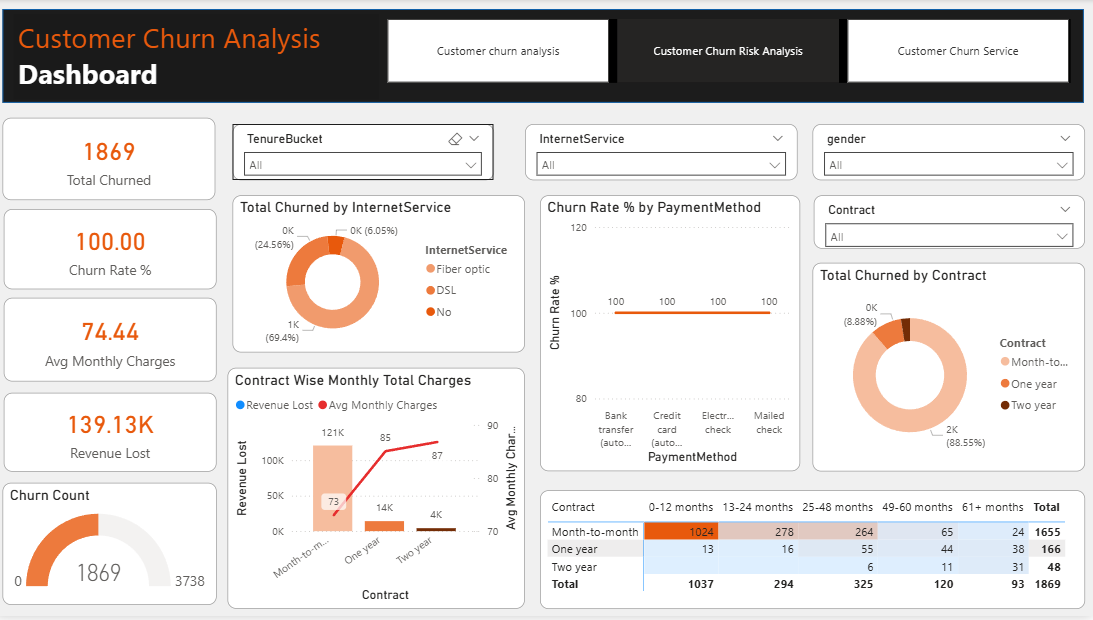

The dashboard page shown, as its layout file describes it:
{"tool":"powerbi","page":{"name":"Customer Churn Risk Analysis","canvas":[1280,720],"ordinal":1},"visuals":[{"type":"shape","box":[8.7,11.7,1259.9,109.2],"z":0},{"type":"pageNavigator","box":[456.9,23.3,795.9,74.1],"z":1000},{"type":"textbox","box":[21.8,17.5,425.3,99],"z":2000},{"type":"card","fields":{"Values":["customers_cleaned_final.Total Churned"]},"box":[8.2,138.6,248.4,96.1],"z":3000},{"type":"card","fields":{"Values":["customers_cleaned_final.Avg Monthly Charges"]},"box":[9.6,348.5,248.4,97.4],"z":4000},{"type":"card","fields":{"Values":["customers_cleaned_final.Revenue Lost"]},"box":[9.6,458.3,248.4,91.9],"z":5000},{"type":"card","fields":{"Values":["customers_cleaned_final.Churn Rate %"]},"box":[9.6,244.3,248.4,93.3],"z":6000},{"type":"gauge","title":"Churn Count","fields":{"Y":["customers_cleaned_final.Total Churned"]},"box":[8.2,564,249.7,142.7],"z":7000},{"type":"donutChart","fields":{"Category":["customers_cleaned_final.InternetService"],"Y":["customers_cleaned_final.Total Churned"]},"box":[276.7,228.7,340.8,183.5],"z":8000},{"type":"donutChart","fields":{"Category":["customers_cleaned_final.Contract"],"Y":["customers_cleaned_final.Total Churned"]},"box":[952.6,307.3,317.5,243.2],"z":9000},{"type":"lineClusteredColumnComboChart","title":"Contract Wise Monthly Total Charges","fields":{"Category":["customers_cleaned_final.Contract"],"Y":["customers_cleaned_final.Revenue Lost"],"Y2":["customers_cleaned_final.Avg Monthly Charges"]},"box":[270.9,429.7,346.7,281.1],"z":10000},{"type":"lineChart","fields":{"Category":["customers_cleaned_final.PaymentMethod"],"Y":["customers_cleaned_final.Churn Rate %"]},"box":[635.1,228.7,303,321.9],"z":11000},{"type":"pivotTable","fields":{"Columns":["customers_cleaned_final.TenureBucket"],"Values":["customers_cleaned_final.Total Churned"],"Rows":["customers_cleaned_final.Contract"]},"box":[635.1,572.4,635.1,138.4],"z":12000},{"type":"slicer","fields":{"Values":["customers_cleaned_final.TenureBucket"]},"box":[276.7,145.7,304.4,65.5],"z":13000},{"type":"slicer","fields":{"Values":["customers_cleaned_final.InternetService"]},"box":[617.6,145.7,317.5,65.5],"z":14000},{"type":"slicer","fields":{"Values":["customers_cleaned_final.gender"]},"box":[952.6,145.7,317.5,65.5],"z":15000},{"type":"slicer","fields":{"Values":["customers_cleaned_final.Contract"]},"box":[954,228.7,316.1,62.6],"z":16000}]}

Visuals, with their boxes in screenshot pixels (x1, y1, x2, y2), scaled from the page's 1280x720 canvas onto the 1093x620 screenshot:
shape: crop(7, 10, 1083, 104)
pageNavigator: crop(390, 20, 1070, 84)
textbox: crop(19, 15, 382, 100)
card - customers_cleaned_final.Total Churned: crop(7, 119, 219, 202)
card - customers_cleaned_final.Avg Monthly Charges: crop(8, 300, 220, 384)
card - customers_cleaned_final.Revenue Lost: crop(8, 395, 220, 474)
card - customers_cleaned_final.Churn Rate %: crop(8, 210, 220, 291)
"Churn Count" gauge: crop(7, 486, 220, 609)
donutChart - customers_cleaned_final.InternetService x customers_cleaned_final.Total Churned: crop(236, 197, 527, 355)
donutChart - customers_cleaned_final.Contract x customers_cleaned_final.Total Churned: crop(813, 265, 1085, 474)
"Contract Wise Monthly Total Charges" lineClusteredColumnComboChart: crop(231, 370, 527, 612)
lineChart - customers_cleaned_final.PaymentMethod x customers_cleaned_final.Churn Rate %: crop(542, 197, 801, 474)
pivotTable - customers_cleaned_final.TenureBucket x customers_cleaned_final.Total Churned: crop(542, 493, 1085, 612)
slicer - customers_cleaned_final.TenureBucket: crop(236, 125, 496, 182)
slicer - customers_cleaned_final.InternetService: crop(527, 125, 798, 182)
slicer - customers_cleaned_final.gender: crop(813, 125, 1085, 182)
slicer - customers_cleaned_final.Contract: crop(815, 197, 1085, 251)
